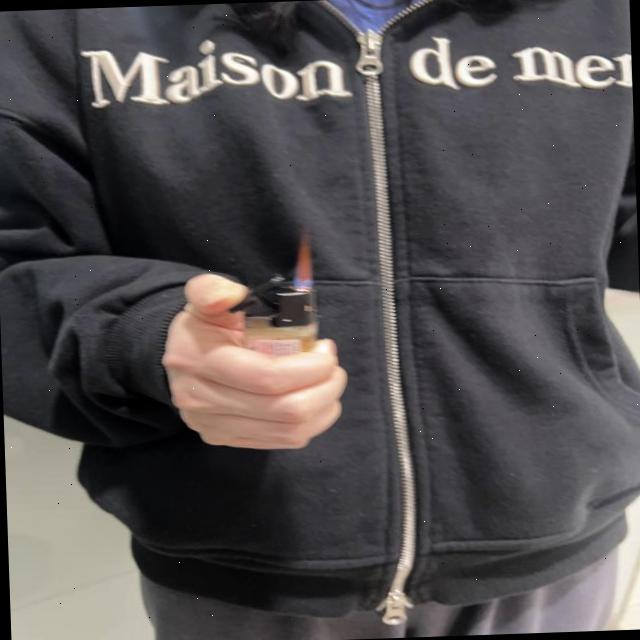fire: (292, 228, 314, 290)
